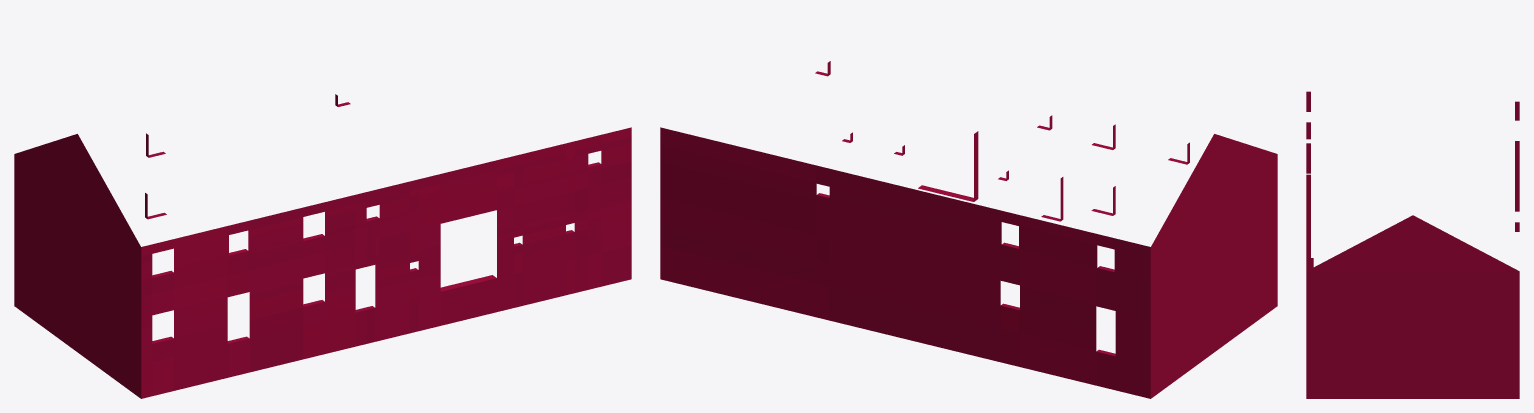
The model's file is SM_Bld_127_Masonry.glb.
The picture shows the model from 3 angles, left to right: view 1: azimuth 30°, elevation 25°; view 2: azimuth 150°, elevation 25°; view 3: azimuth 270°, elevation 25°; orthographic projection. The views are drawn at different scales.
Parts seen in each view (by area): view 1: SM_Bld_127_Masonry; view 2: SM_Bld_127_Masonry; view 3: SM_Bld_127_Masonry.
Part boxes in pixels (left/top/right/bottom): SM_Bld_127_Masonry: left=14, top=94, right=631, bottom=398; SM_Bld_127_Masonry: left=660, top=61, right=1277, bottom=398; SM_Bld_127_Masonry: left=1306, top=91, right=1519, bottom=398.
Bounding box in the file's own units: 22.64 × 9.65 × 10.15.
